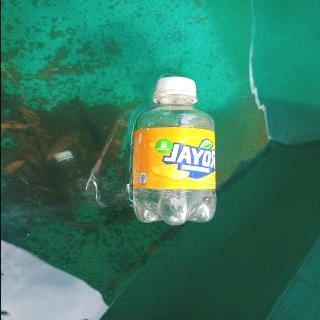bottle: (126, 75, 220, 226)
